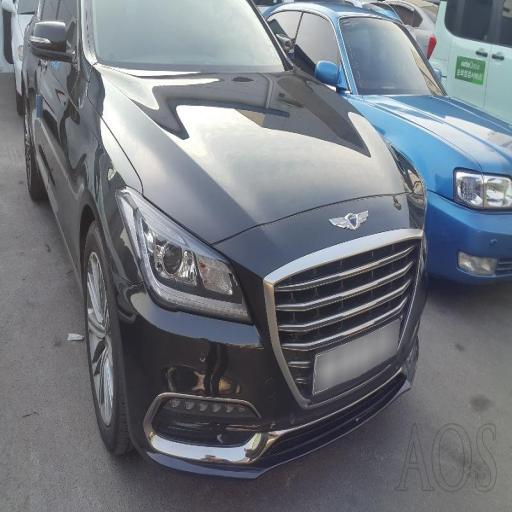broken: (100, 232, 270, 492)
